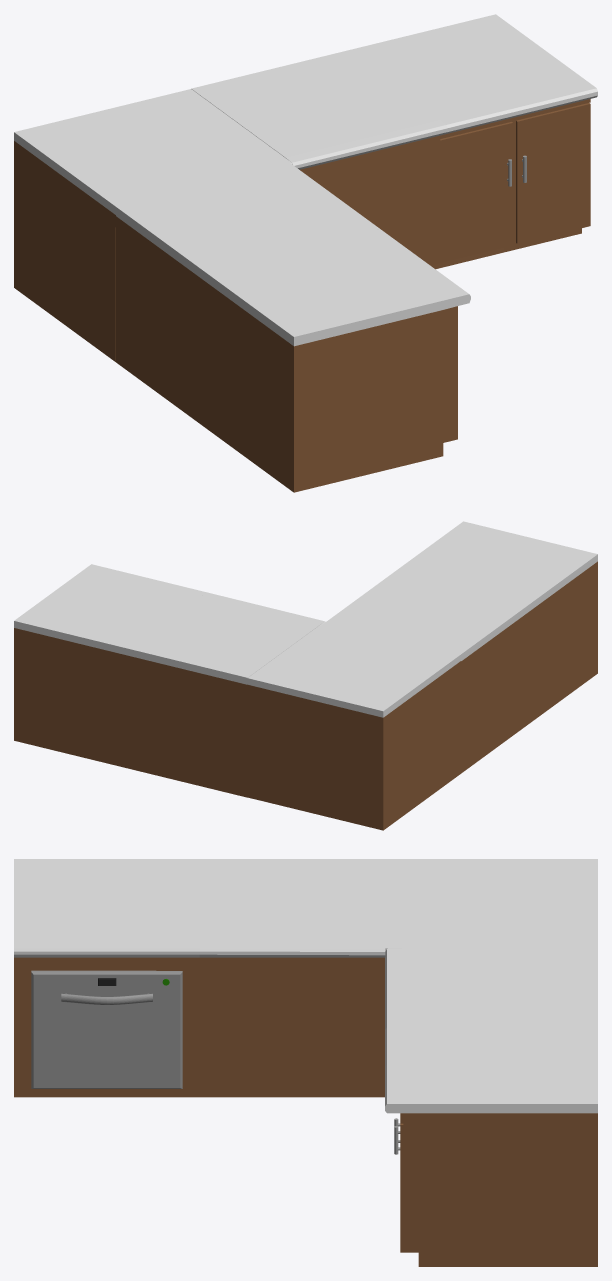
Rendered from counter.fbx.
3 views of the same model, one above another, from view 1: azimuth 30°, elevation 25°; view 2: azimuth 150°, elevation 25°; view 3: azimuth 270°, elevation 25° (orthographic). The views are drawn at different scales.
Parts seen in each view (by area): view 1: Cube.004, Cube.002, Cube.000, Cube.003, Cube.001; view 2: Cube.000, Cube.001, Cube.002, Cube.003, Cube.004; view 3: Cube.002, Cube.004, Cube.003, Cube.000, Cube.001.
Part boxes in pixels (x1=…): Cube.004: x1=205, y1=229, x2=470, y2=492; Cube.002: x1=346, y1=14, x2=597, y2=269; Cube.000: x1=14, y1=89, x2=292, y2=361; Cube.003: x1=116, y1=164, x2=379, y2=427; Cube.001: x1=191, y1=51, x2=447, y2=266; Cube.000: x1=247, y1=621, x2=461, y2=830; Cube.001: x1=129, y1=592, x2=324, y2=797; Cube.002: x1=14, y1=564, x2=206, y2=768; Cube.003: x1=327, y1=571, x2=529, y2=773; Cube.004: x1=395, y1=521, x2=597, y2=722; Cube.002: x1=385, y1=1027, x2=597, y2=1266; Cube.004: x1=14, y1=859, x2=199, y2=1097; Cube.003: x1=199, y1=859, x2=385, y2=1097; Cube.000: x1=385, y1=859, x2=597, y2=950; Cube.001: x1=385, y1=949, x2=597, y2=1029.
Size of the model in its own units: 1304 by 404 by 1312.
